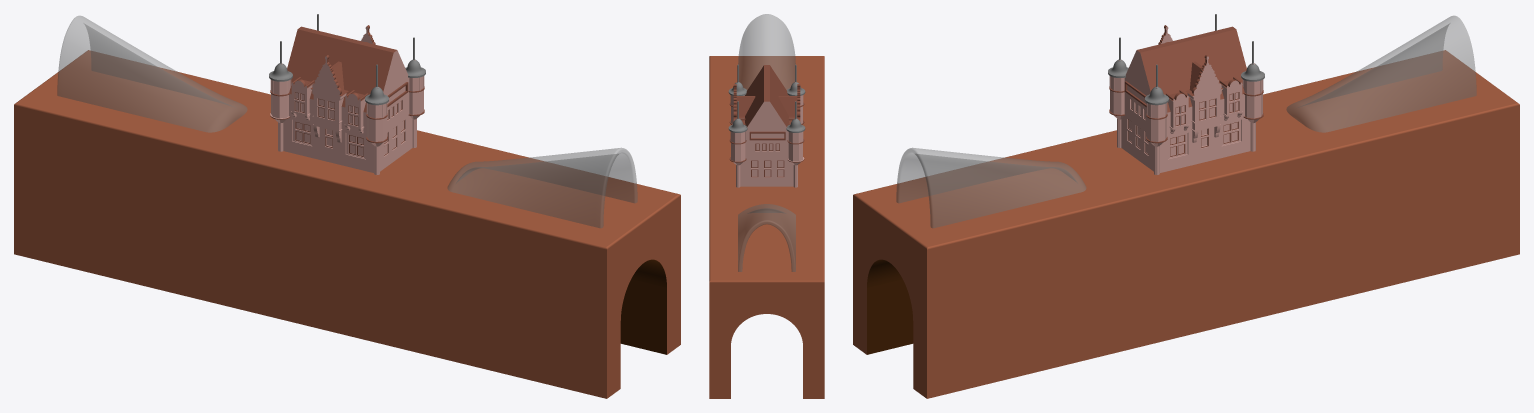
The model's file is st-enoch-station-v5.gltf.
3 renders of one model, left to right at view 1: azimuth 30°, elevation 25°; view 2: azimuth 150°, elevation 25°; view 3: azimuth 270°, elevation 25°, orthographic. The views are drawn at different scales.
Parts seen in each view (by area): view 1: St Enoch Station, St Enoch Station Canopy.stl (×2), St Enoch Station v2.stl#3; view 2: St Enoch Station, St Enoch Station v2.stl#3, St Enoch Station Canopy.stl (×2); view 3: St Enoch Station, St Enoch Station Canopy.stl (×2), St Enoch Station v2.stl#3.
Boxes of the visible parts, x1,y1,x2,y2 form: St Enoch Station: [14, 50, 680, 398]; St Enoch Station Canopy.stl (×2): [57, 15, 637, 228]; St Enoch Station v2.stl#3: [269, 14, 425, 174]; St Enoch Station: [709, 56, 824, 398]; St Enoch Station v2.stl#3: [728, 64, 805, 187]; St Enoch Station Canopy.stl (×2): [738, 14, 795, 271]; St Enoch Station: [853, 50, 1519, 398]; St Enoch Station Canopy.stl (×2): [896, 15, 1476, 228]; St Enoch Station v2.stl#3: [1108, 14, 1264, 174].
Size of the model in its own units: 0.2543 by 0.155 by 0.3604.
